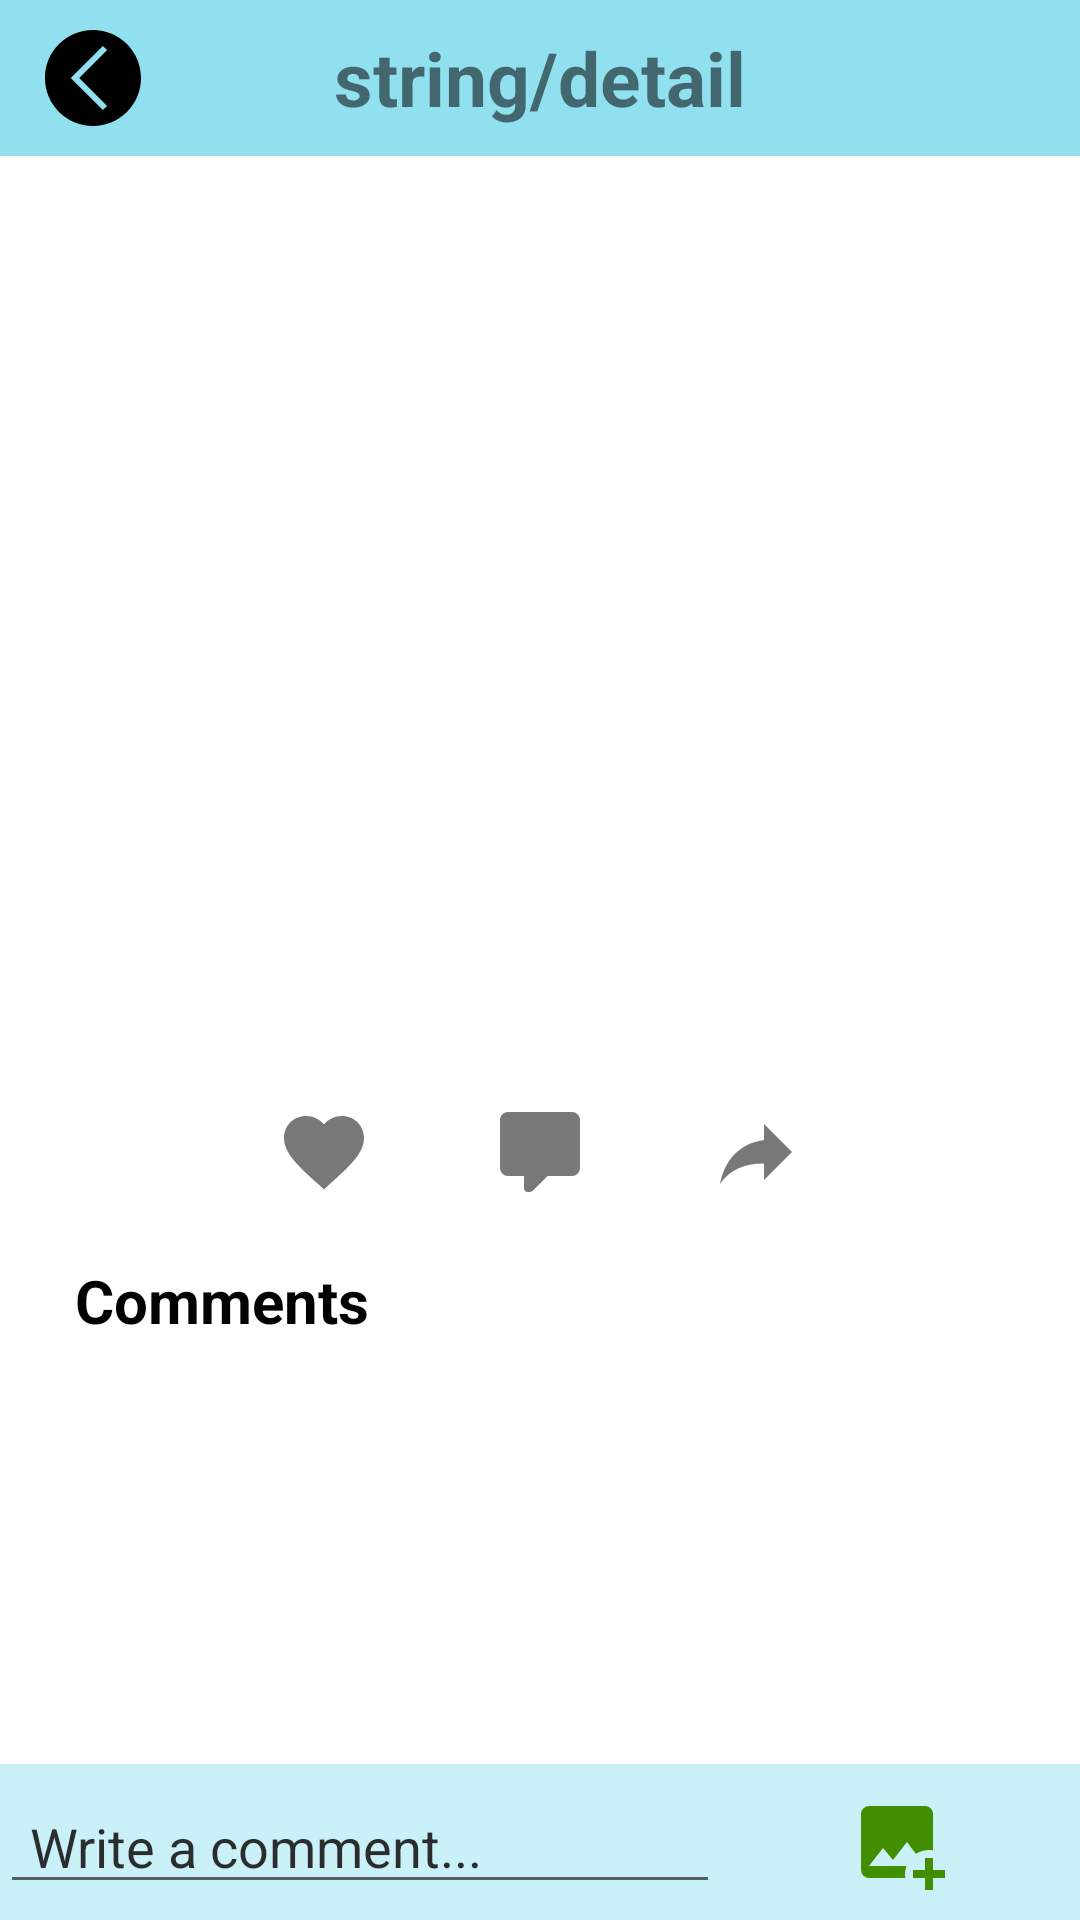

Locate icon controls on the screen. Image size 1080x1920, boxes as bbox=(x1, y1, x2, y2).
back: bbox=(45, 30, 141, 126)
heart: bbox=(284, 1116, 364, 1189)
plus: bbox=(861, 1806, 945, 1890)
share: bbox=(720, 1124, 792, 1184)
